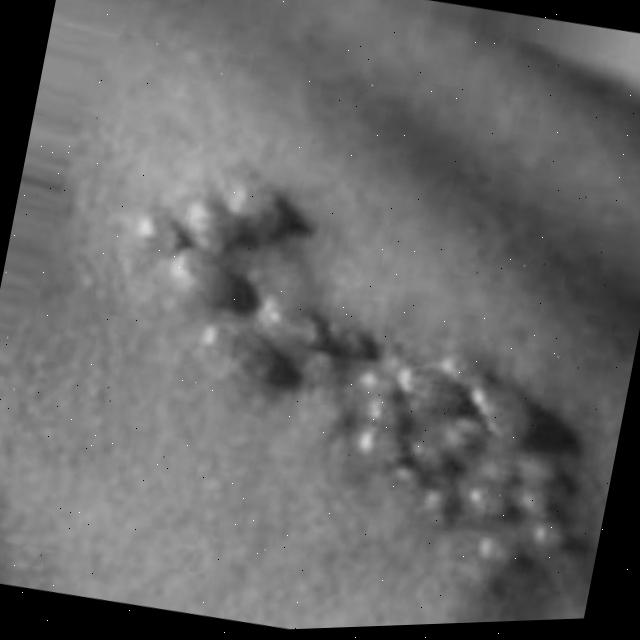Shingles: (81, 142, 638, 625)
